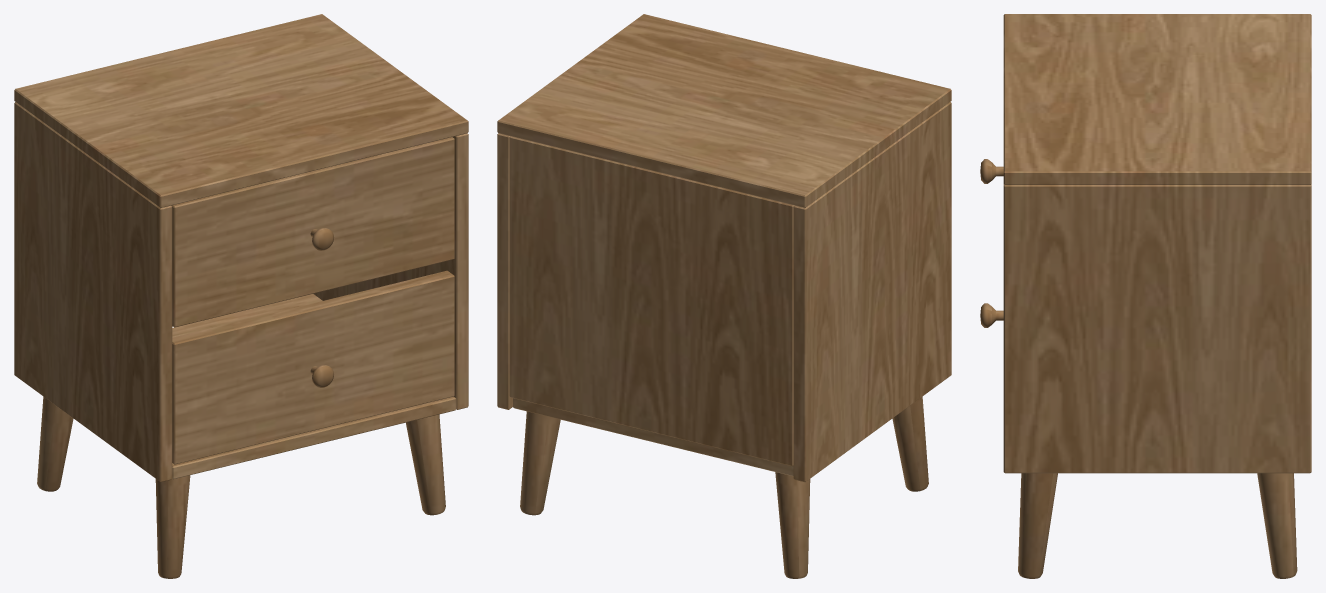
The model's file is mesilla_roble_45.glb.
3 views of the same model, side by side, from view 1: azimuth 30°, elevation 25°; view 2: azimuth 150°, elevation 25°; view 3: azimuth 270°, elevation 25° (orthographic). The views are drawn at different scales.
Parts seen in each view (by area): view 1: mesilla_roble_45; view 2: mesilla_roble_45; view 3: mesilla_roble_45.
Boxes of the visible parts, x1,y1,x2,y2 form: mesilla_roble_45: (14,14,468,578); mesilla_roble_45: (497,14,951,578); mesilla_roble_45: (980,14,1311,578).
Bounding box in the file's own units: 0.45 × 0.551 × 0.398.
Materials: 1 (1 with a texture image).
